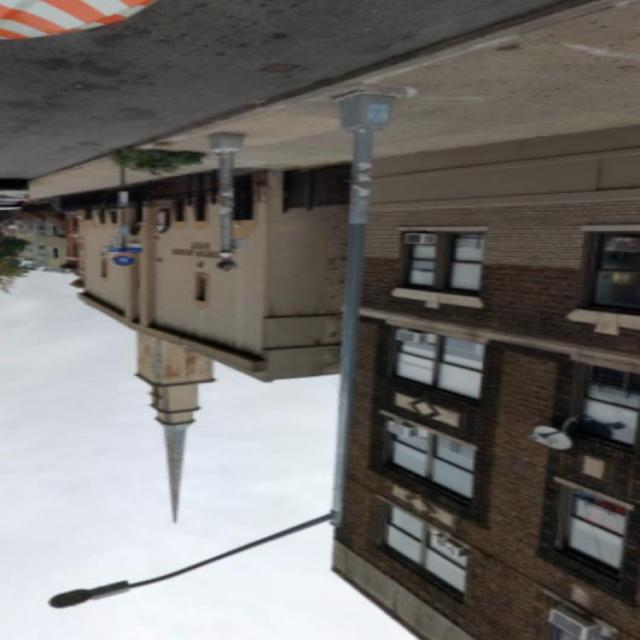off: (26, 565, 173, 620)
